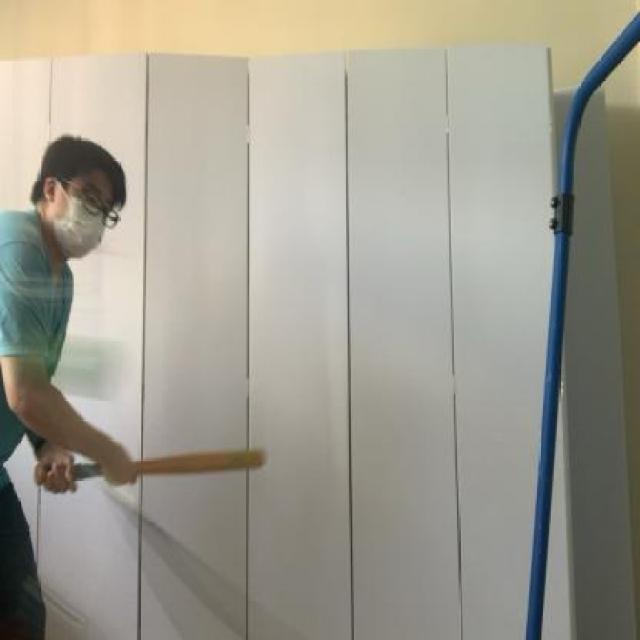baseball: (5, 316, 146, 409)
